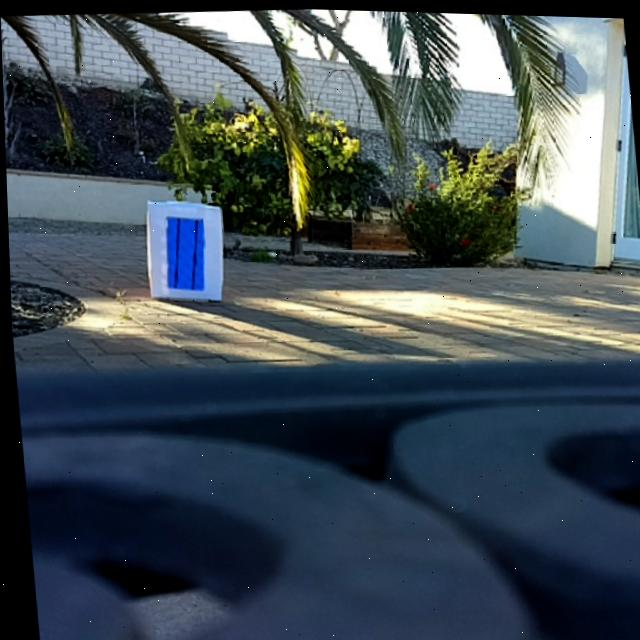led: (162, 214, 206, 291)
